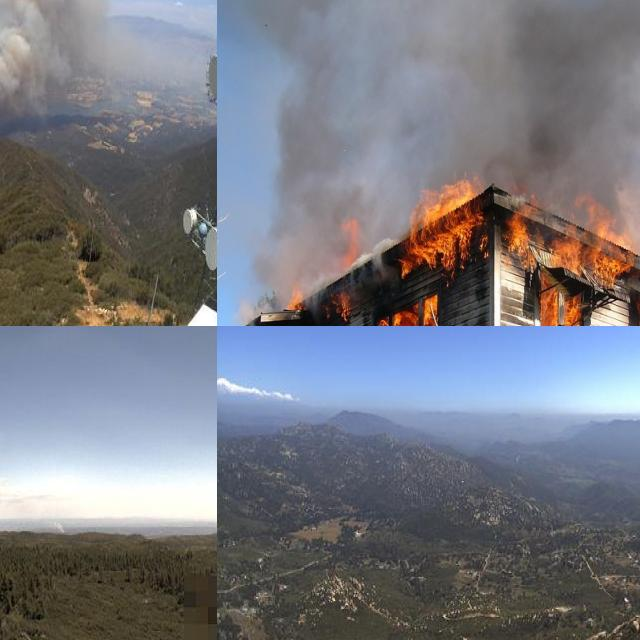fire: (217, 174, 640, 326)
smoke: (241, 0, 640, 254), (0, 0, 134, 134), (43, 508, 67, 535)
